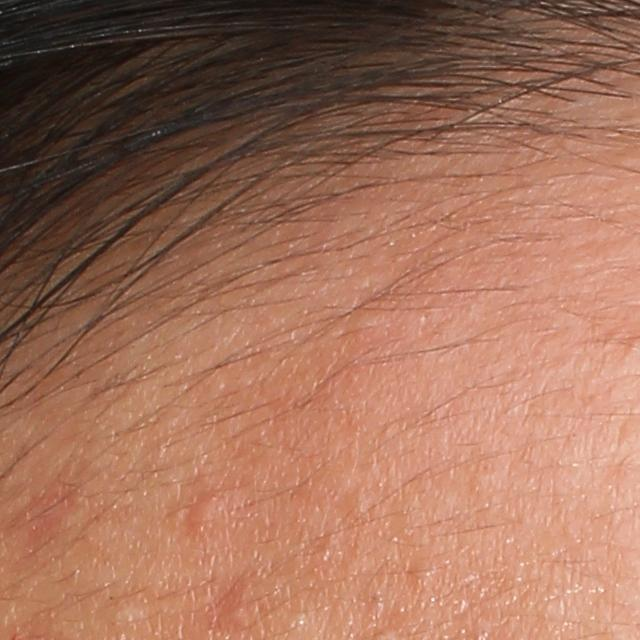comedo: (215, 582, 258, 630), (111, 601, 150, 626), (414, 563, 439, 584)
